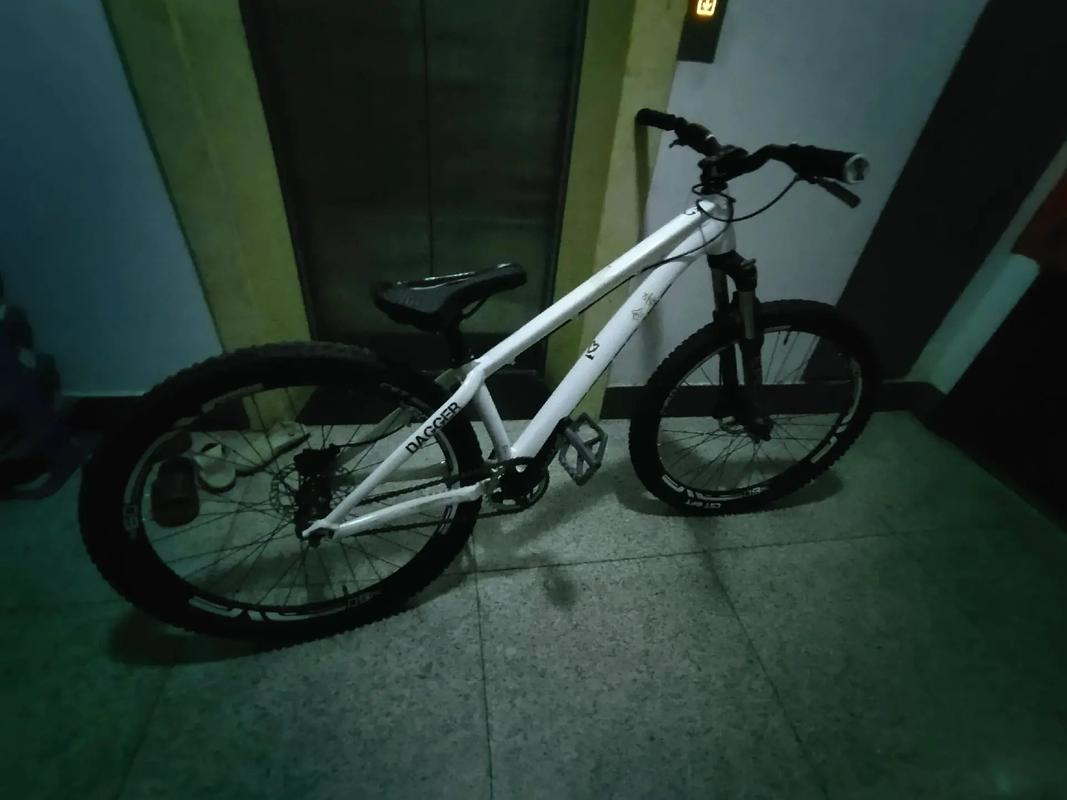单车: (68, 98, 944, 643)
